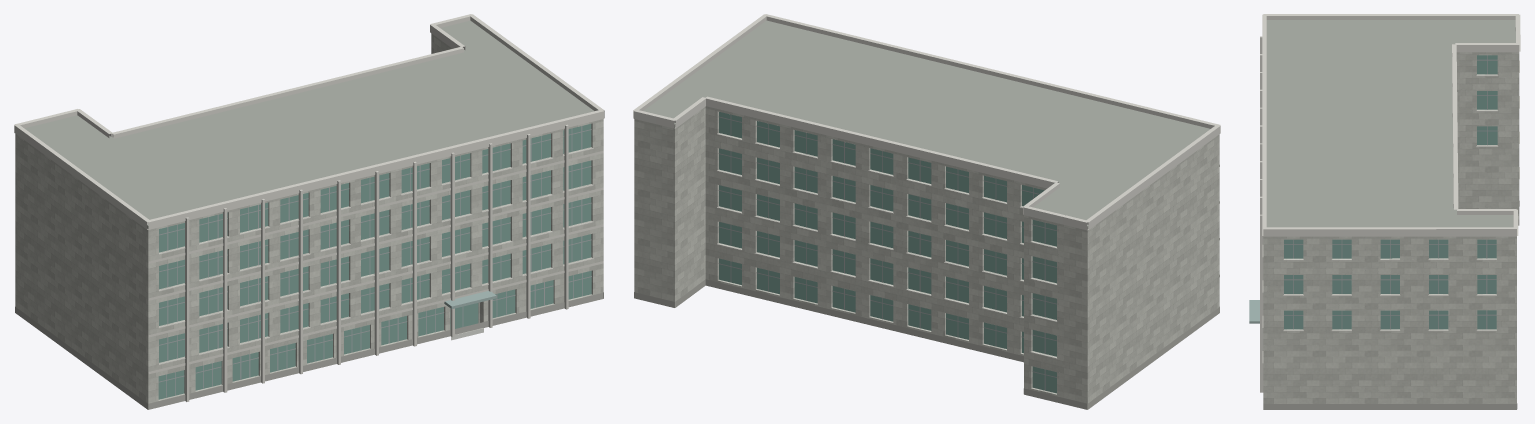
3 views of the same model, side by side, from view 1: azimuth 30°, elevation 25°; view 2: azimuth 150°, elevation 25°; view 3: azimuth 270°, elevation 25° (orthographic). The views are drawn at different scales.
Parts seen in each view (by area): view 1: inseong__wall, inseong__roof, inseong__glass, inseong__trim, inseong__frame, inseong__base; view 2: inseong__wall, inseong__roof, inseong__glass, inseong__trim, inseong__base, inseong__frame; view 3: inseong__wall, inseong__roof, inseong__trim, inseong__glass, inseong__base, inseong__frame, inseong__canopy.
Boxes of the visible parts, x1,y1,x2,y2 form: inseong__wall: (15, 33, 603, 409); inseong__roof: (24, 20, 594, 225); inseong__glass: (158, 124, 591, 399); inseong__trim: (14, 14, 604, 401); inseong__frame: (158, 126, 591, 397); inseong__base: (15, 292, 603, 409); inseong__wall: (634, 106, 1219, 409); inseong__roof: (643, 20, 1210, 226); inseong__glass: (719, 112, 1056, 393); inseong__trim: (633, 14, 1220, 358); inseong__base: (634, 279, 1219, 409); inseong__frame: (718, 115, 1056, 390); inseong__wall: (1263, 52, 1519, 403); inseong__roof: (1266, 20, 1515, 259); inseong__trim: (1260, 14, 1520, 392); inseong__glass: (1284, 55, 1497, 329); inseong__base: (1263, 201, 1519, 409); inseong__frame: (1284, 55, 1497, 329); inseong__canopy: (1249, 300, 1259, 323).
Bounding box in the file's own units: 46.9 × 18.8 × 24.98.
9 materials, 1 textured.
